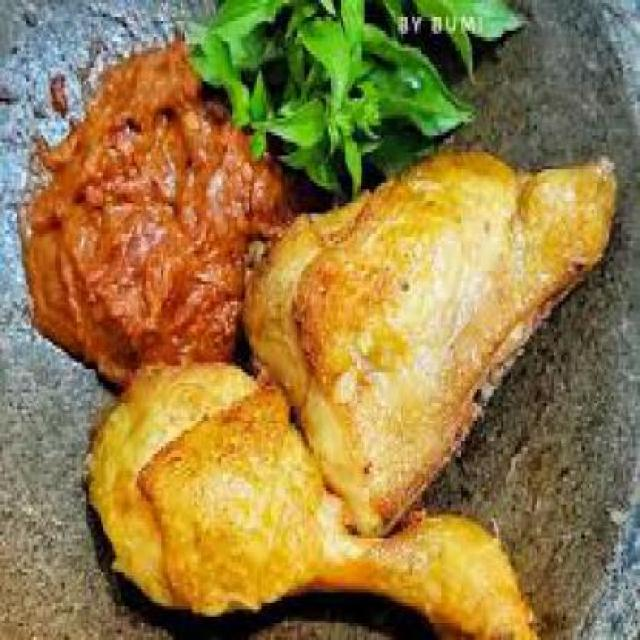Wet Waste: (244, 157, 614, 529), (91, 358, 537, 637)
